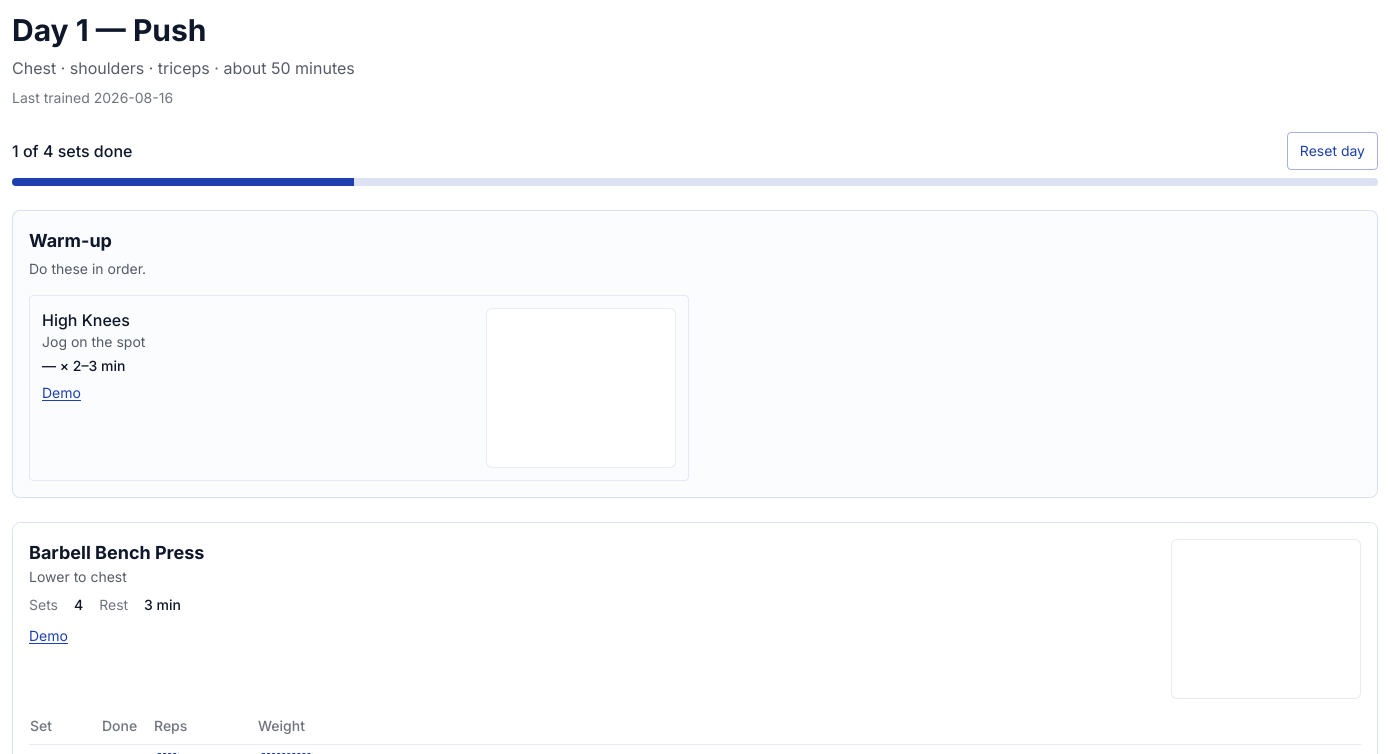
it: WorkoutDay › should return to the reset button once the reset is confirmed
Click the button "Reset day" at (1332, 151), box top-left (1287, 132), bottom-right (1378, 170)
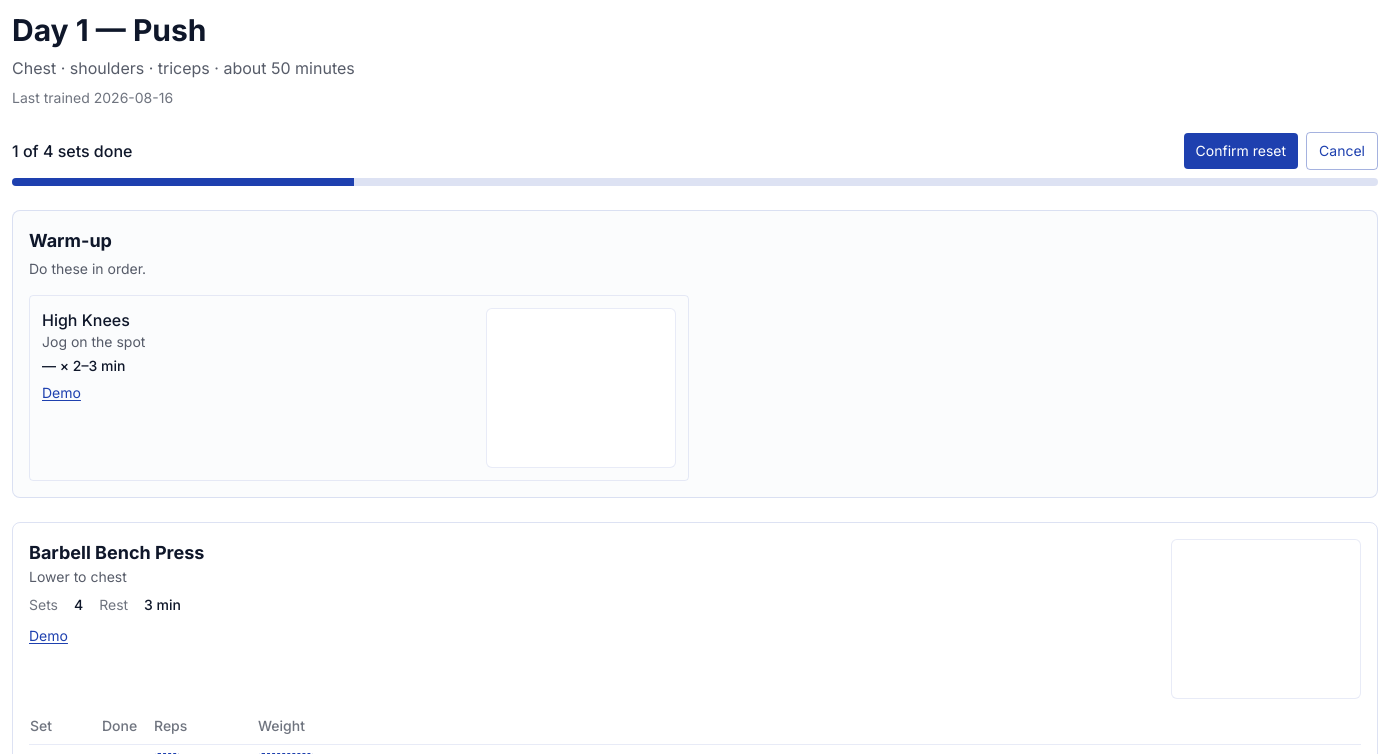
Click the button "Confirm reset" at (1241, 151), box top-left (1184, 133), bottom-right (1298, 169)
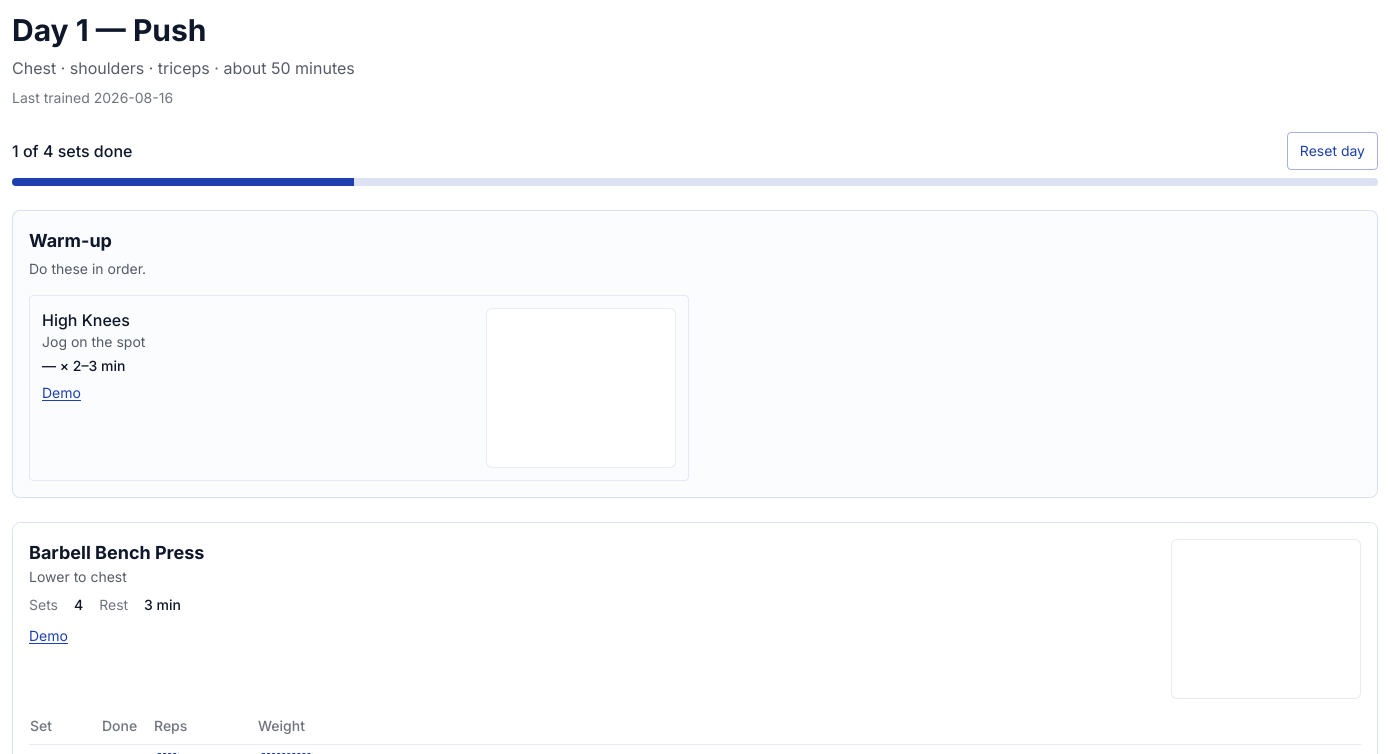
Expected: the button "Reset day" is shown, top-left (1287, 132), bottom-right (1378, 170)
